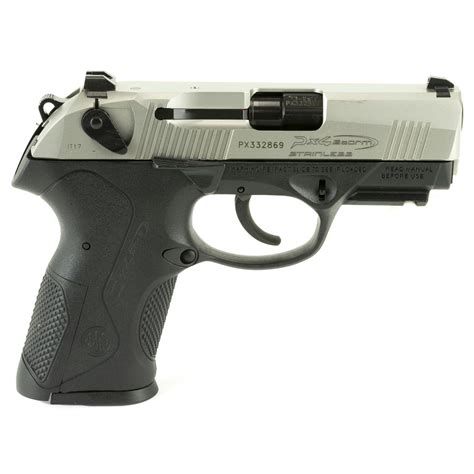gun: (16, 69, 465, 406)
